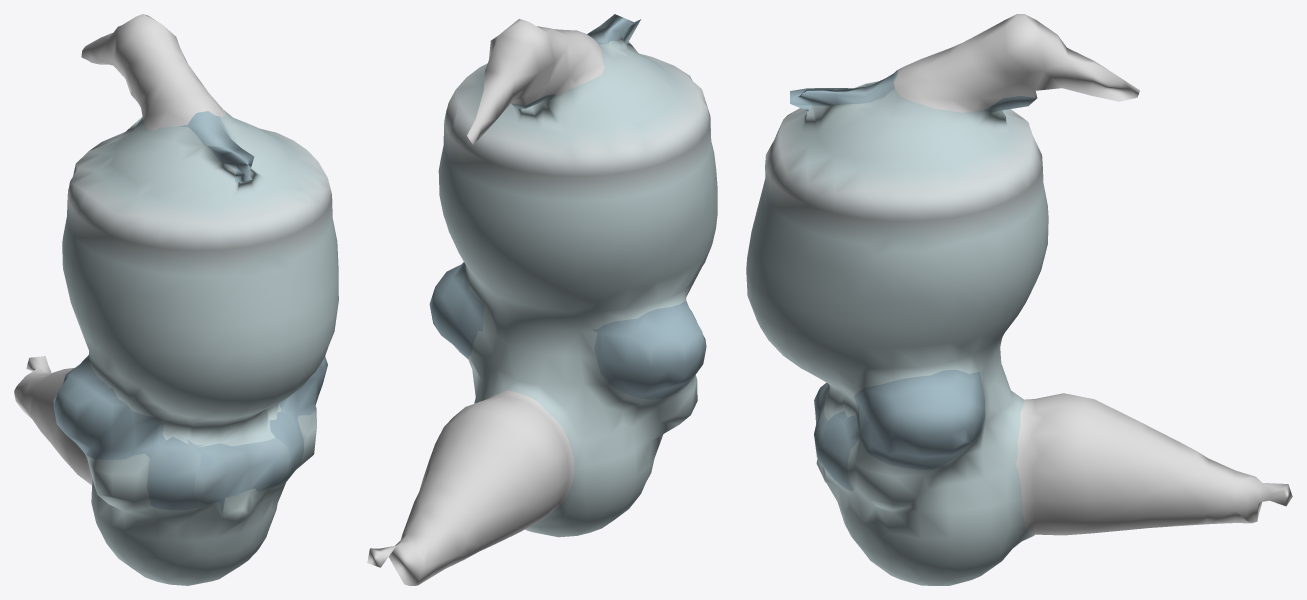
The model's file is rider_c07_lo.glb.
3 views of the same model, side by side, from view 1: azimuth 30°, elevation 25°; view 2: azimuth 150°, elevation 25°; view 3: azimuth 270°, elevation 25° (orthographic). The views are drawn at different scales.
Visible parts, largest first — view 1: rider_c07_lo; view 2: rider_c07_lo; view 3: rider_c07_lo.
Part boxes in pixels (x1,y1,x2,y2): rider_c07_lo: [14, 14, 338, 585]; rider_c07_lo: [367, 14, 717, 585]; rider_c07_lo: [746, 14, 1292, 585].
Bounding box in the file's own units: 24.35 × 47.56 × 42.08.
